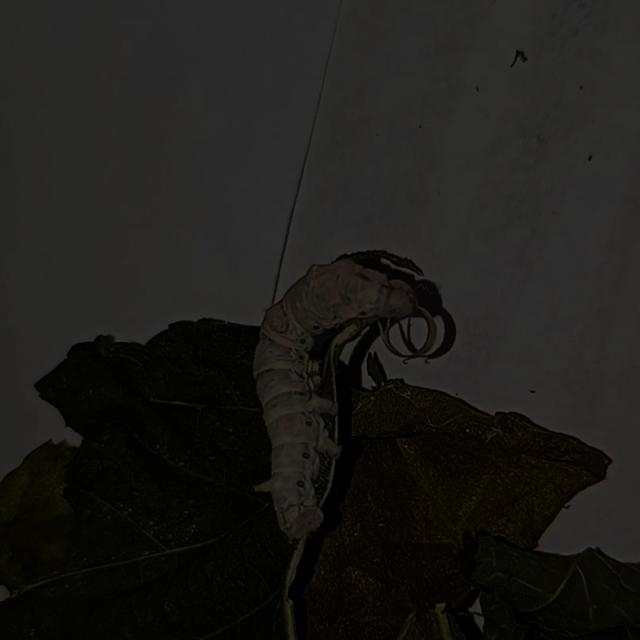Healthy: (235, 246, 424, 549)
